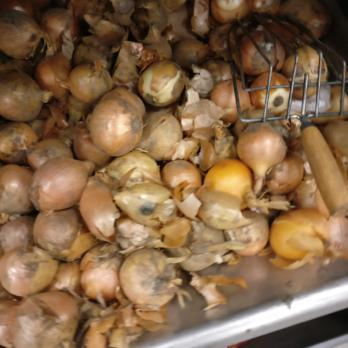Onion: (2, 1, 348, 263), (1, 264, 180, 348)
